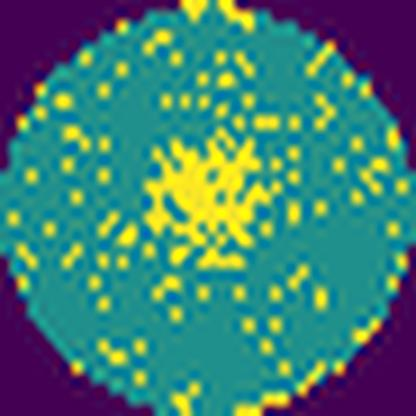Center: (149, 133, 278, 270)
